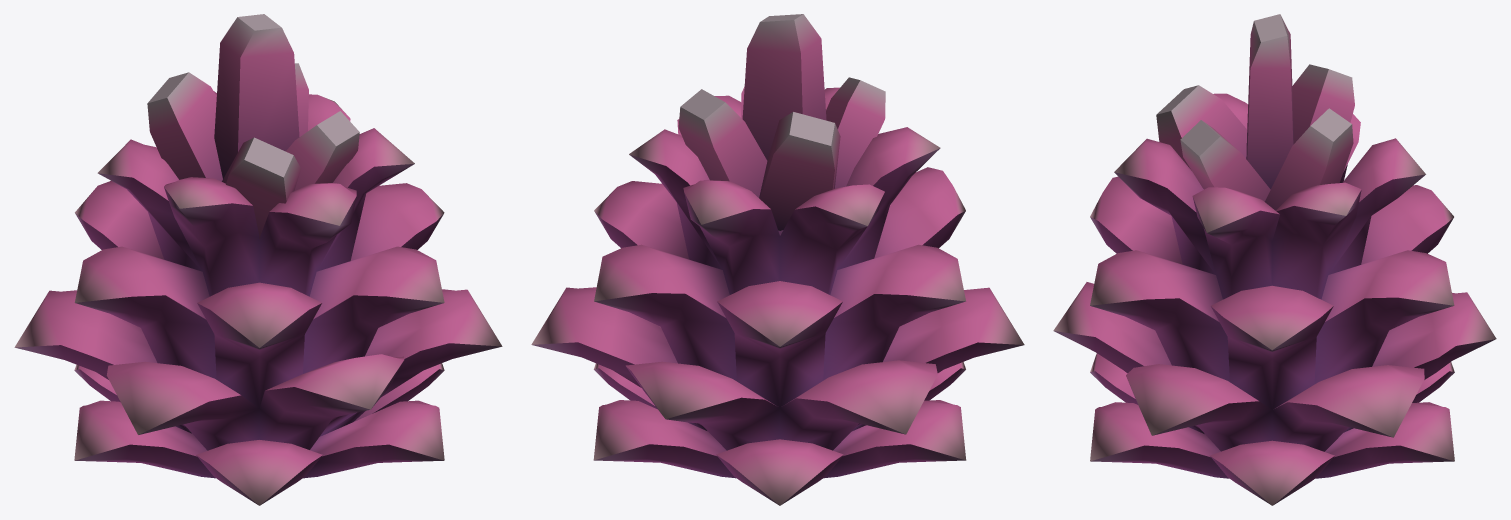
Rendered from Pinecone_02.FBX.
The picture shows the model from 3 angles, left to right: view 1: azimuth 30°, elevation 25°; view 2: azimuth 150°, elevation 25°; view 3: azimuth 270°, elevation 25°; orthographic projection. The views are drawn at different scales.
Visible parts, largest first — view 1: Pinecone; view 2: Pinecone; view 3: Pinecone.
Part boxes in pixels (x1,y1,x2,y2): Pinecone: (14, 14, 502, 505); Pinecone: (531, 14, 1024, 505); Pinecone: (1053, 14, 1496, 505).
Size of the model in its own units: 1.22 by 1.42 by 1.28.
